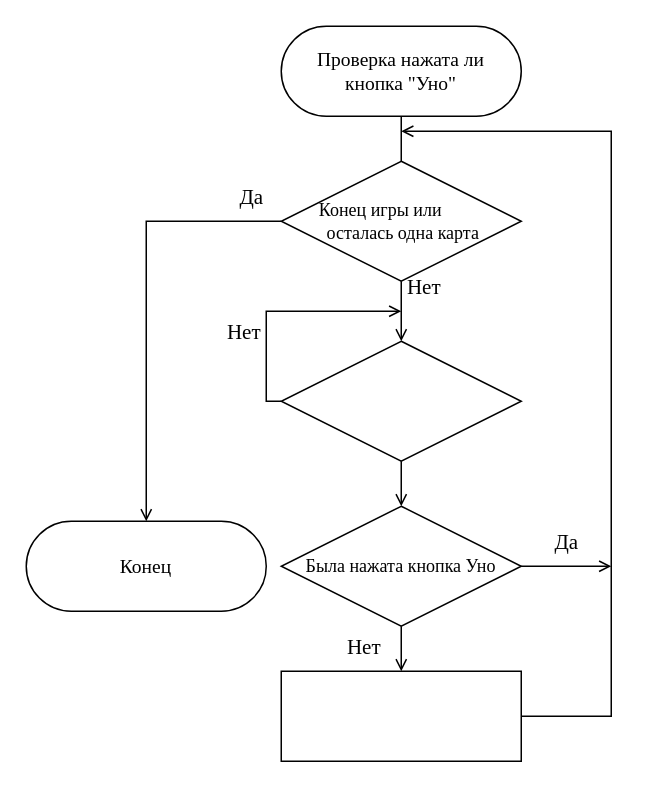
The diagram is 650 pixels wide and 788 high, and some of its shapes have lost their labels. Here are the shapes that lost their labels. From the top down, the centre of each, then its label:
At [400,400]: "Выполнен ход предпоследней картой".
At [400,715]: "Игрок набирает 2 карты из колоды".
